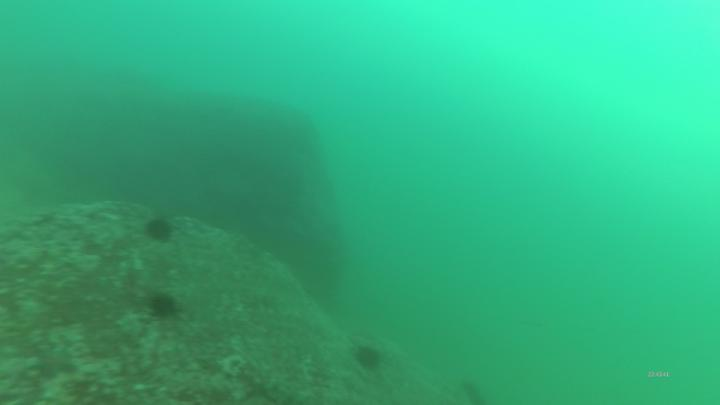echinus: (148, 287, 181, 324), (354, 342, 386, 377), (142, 215, 176, 246), (460, 381, 486, 405)
